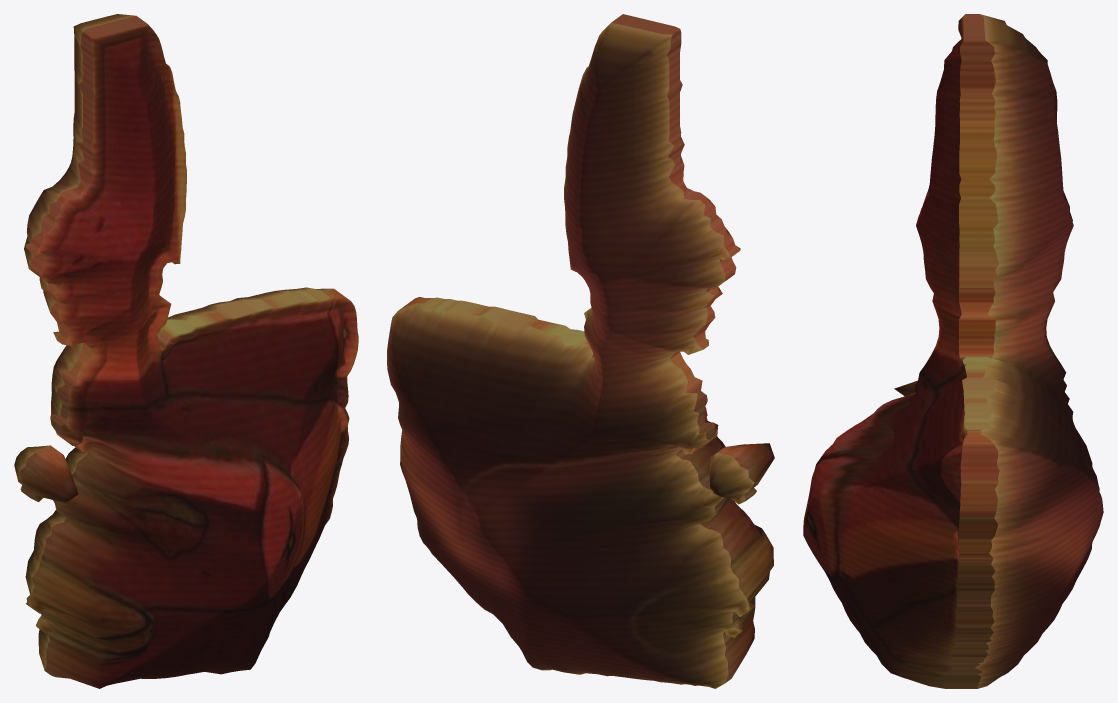
3 renders of one model, left to right at view 1: azimuth 30°, elevation 25°; view 2: azimuth 150°, elevation 25°; view 3: azimuth 270°, elevation 25°, orthographic. The views are drawn at different scales.
Visible parts, largest first — view 1: holo; view 2: holo; view 3: holo.
Part boxes in pixels (box(x1,y1,x2,y2)): holo: box(14, 14, 358, 688); holo: box(387, 14, 774, 688); holo: box(803, 14, 1103, 688).
Size of the model in its own units: 3.92 by 7.17 by 3.17.
Materials: 1 (1 with a texture image).
